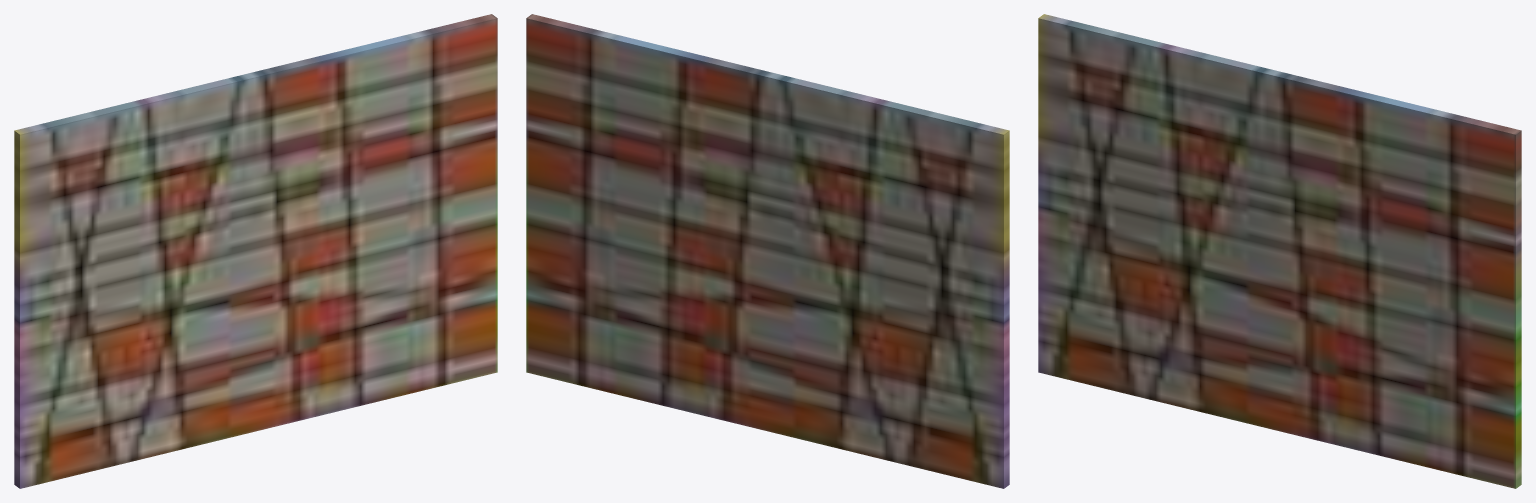
File: paintings_cubism002.fbx
The picture shows the model from 3 angles, left to right: view 1: azimuth 30°, elevation 25°; view 2: azimuth 150°, elevation 25°; view 3: azimuth 330°, elevation 25°; orthographic projection.
Visible parts, largest first — view 1: paintings_cubism002; view 2: paintings_cubism002; view 3: paintings_cubism002.
Part boxes in pixels (x1,y1,x2,y2): paintings_cubism002: (14, 14, 497, 488); paintings_cubism002: (526, 14, 1009, 488); paintings_cubism002: (1038, 14, 1521, 488).
Size of the model in its own units: 167 by 118 by 3.5.
1 material, 1 textured.
